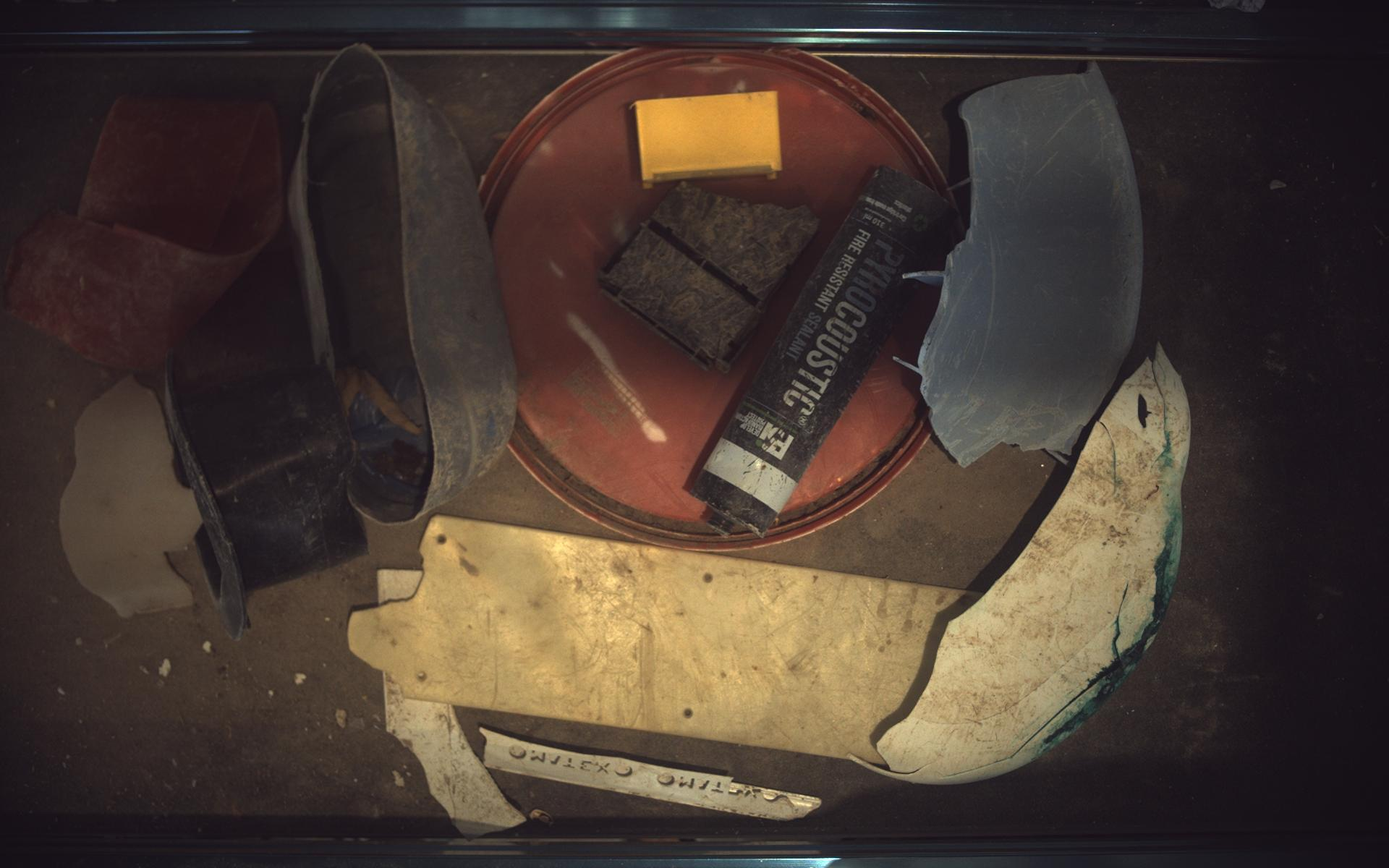plastic: (480, 48, 953, 552), (348, 516, 977, 765), (849, 346, 1193, 786), (288, 43, 517, 524), (896, 63, 1145, 467), (693, 167, 957, 537), (4, 96, 282, 368), (167, 364, 367, 639), (765, 289, 938, 545), (600, 182, 820, 372), (58, 377, 200, 618), (480, 728, 821, 822), (383, 674, 525, 838), (634, 90, 783, 187), (378, 570, 423, 605)
